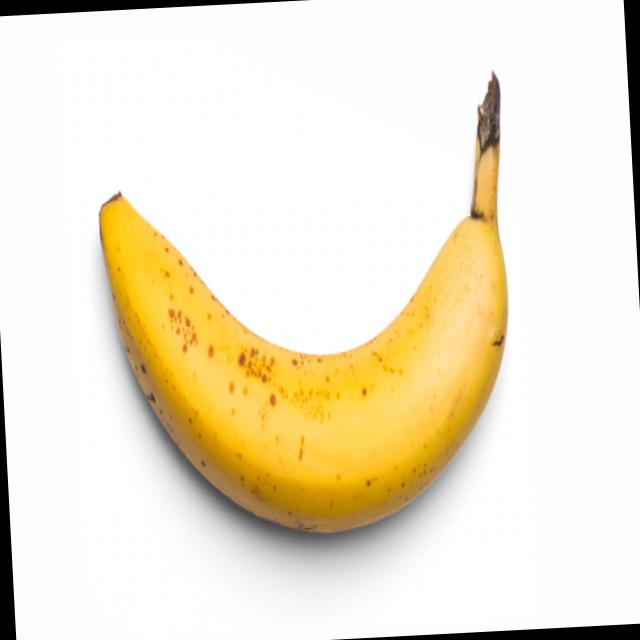banana: (98, 159, 530, 566)
